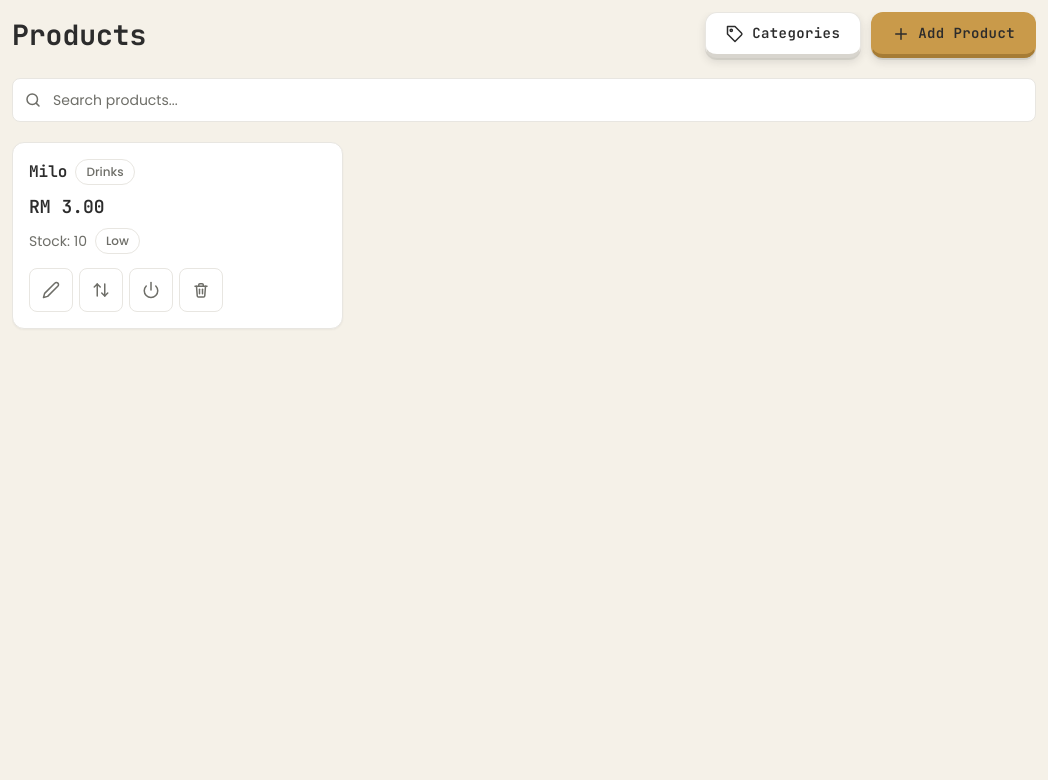
Test: ProductsPage › deactivates a product and shows the Inactive badge
Click the button named "Deactivate Milo". click: (151, 290)
box: [129,268,173,312]
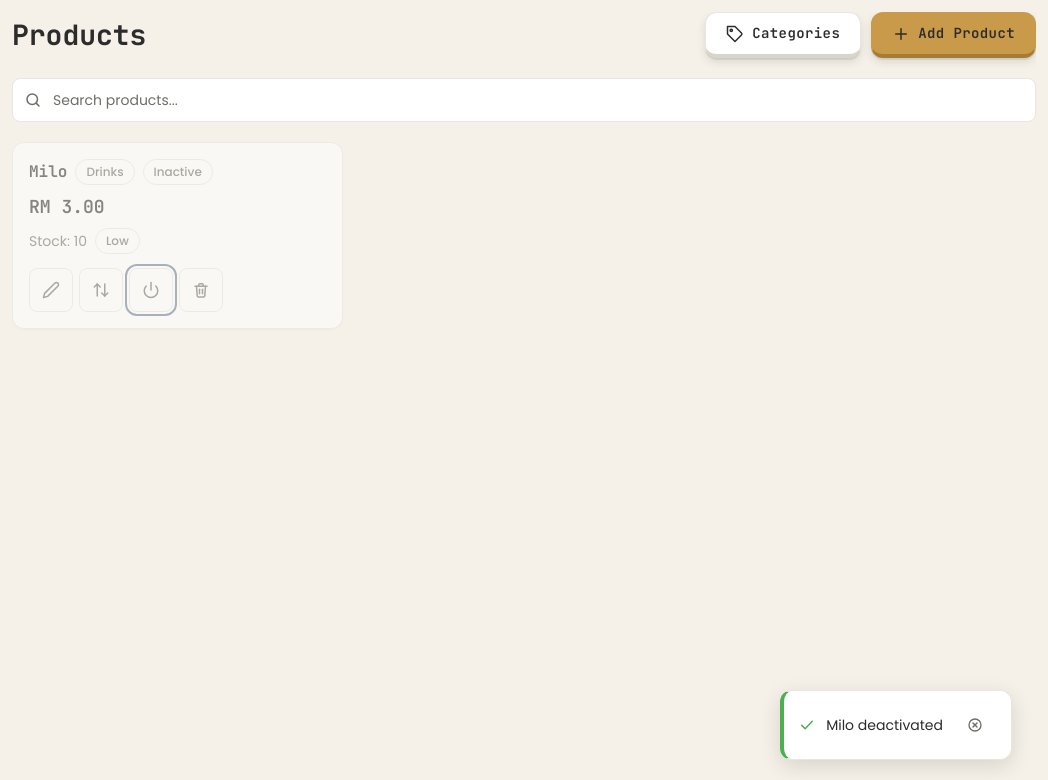
Check: the text "Inactive" is shown, box [142,159,213,185]
